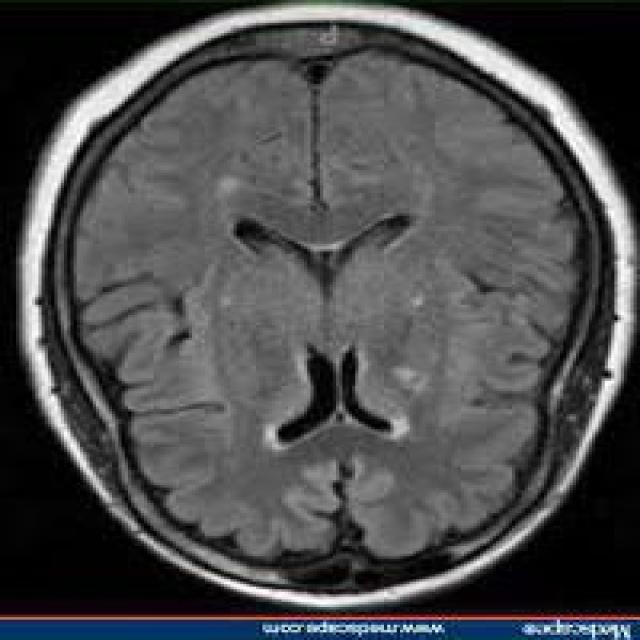no-tumor: (117, 93, 491, 464)
